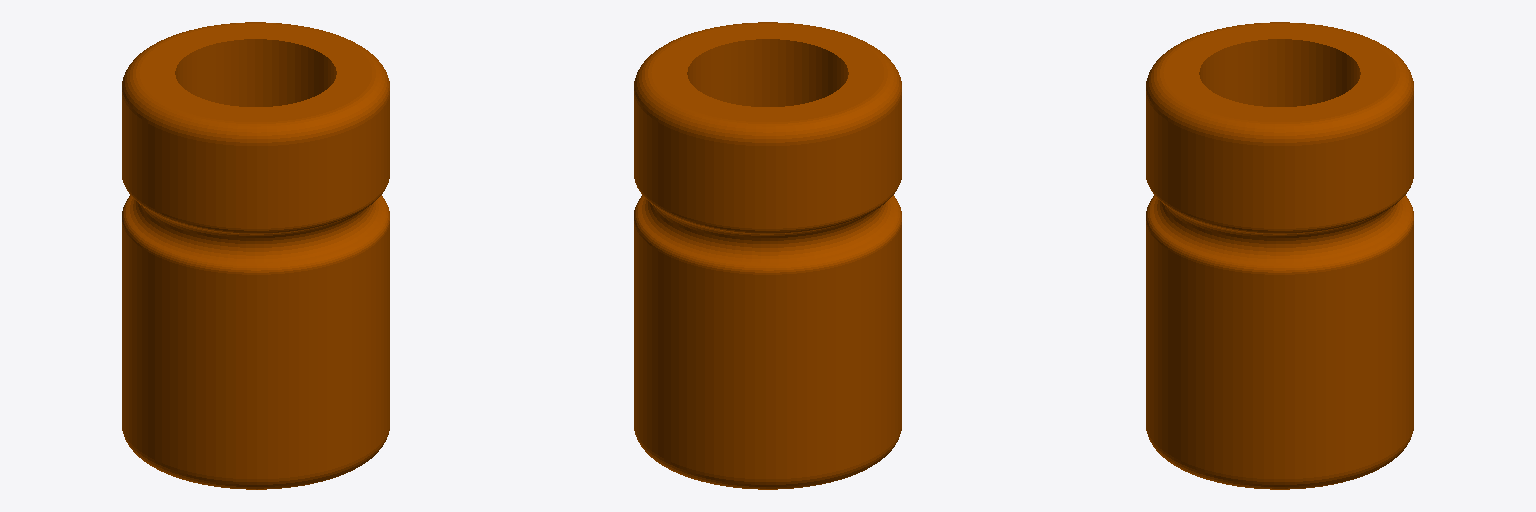
File: petit-rond-trou-jaune.obj
3 renders of one model, left to right at view 1: azimuth 30°, elevation 25°; view 2: azimuth 150°, elevation 25°; view 3: azimuth 270°, elevation 25°, orthographic.
Visible parts, largest first — view 1: quarto-pieces.014; view 2: quarto-pieces.014; view 3: quarto-pieces.014.
Boxes of the visible parts, x1,y1,x2,y2 form: quarto-pieces.014: [122, 22, 389, 489]; quarto-pieces.014: [634, 22, 901, 489]; quarto-pieces.014: [1146, 22, 1413, 489].
Size of the model in its own units: 29.98 by 45 by 29.98.